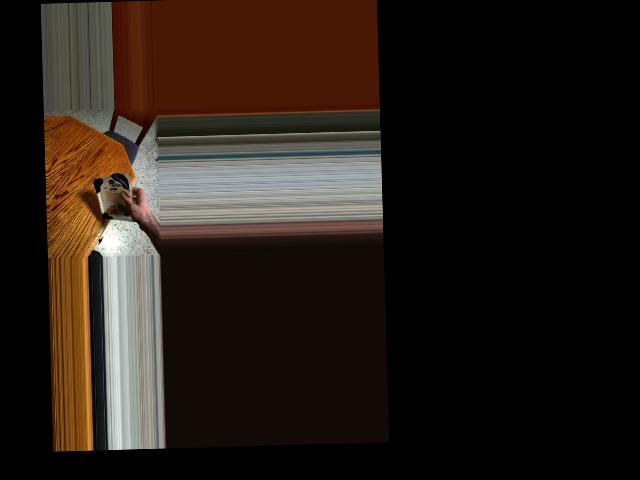cheese: (96, 170, 137, 230)
